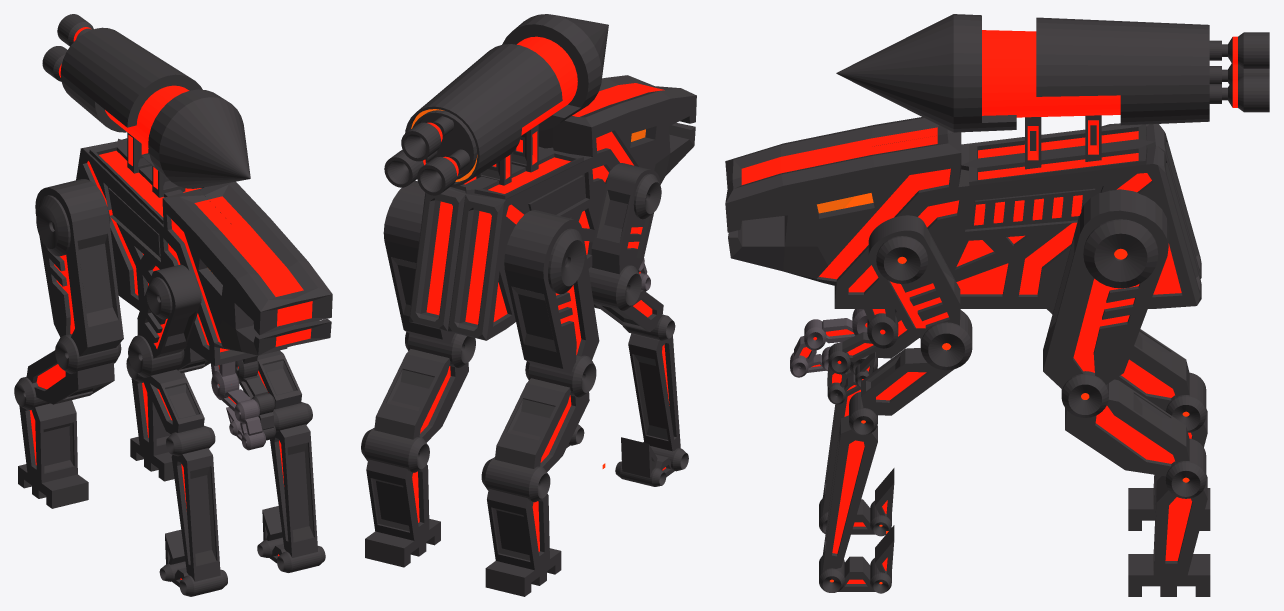
File: Mecha Join Berwarna.fbx
The picture shows the model from 3 angles, left to right: view 1: azimuth 30°, elevation 25°; view 2: azimuth 150°, elevation 25°; view 3: azimuth 270°, elevation 25°; orthographic projection. The views are drawn at different scales.
Visible parts, largest first — view 1: Cube.060, Cube.031, Cylinder.010, Cube.056, Cube.055, Cube.049, Cube.059, Cube.058, Cube.039, Cylinder.012, Cube.052, Cube.040 (+4 smaller); view 2: Cube.031, Cube.060, Cube.059, Cube.056, Cylinder.010, Cube.050, Cube.049, Cylinder.012, Cube.052, Cylinder.009, Cylinder.011, Cube.040 (+5 smaller); view 3: Cube.060, Cube.059, Cylinder.010, Cube.055, Cube.052, Cylinder.012, Cube.049, Cube.031, Cube.053, Cube.056, Cube.039, Cube.054 (+4 smaller).
Boxes of the visible parts, x1,y1,x2,y2 form: Cube.060: (76, 138, 332, 366); Cube.031: (14, 179, 123, 508); Cylinder.010: (60, 27, 250, 188); Cube.056: (128, 264, 227, 596); Cube.055: (257, 350, 325, 572); Cube.049: (99, 150, 312, 352); Cube.059: (126, 346, 210, 481); Cube.058: (210, 361, 265, 450); Cube.039: (235, 356, 275, 440); Cylinder.012: (105, 85, 189, 148); Cube.052: (87, 161, 221, 345); Cube.040: (29, 255, 74, 465); Cube.031: (481, 210, 599, 596); Cube.060: (409, 75, 696, 340); Cube.059: (361, 180, 475, 567); Cube.056: (588, 163, 688, 486); Cylinder.010: (405, 14, 608, 186); Cube.050: (426, 201, 491, 324); Cube.049: (464, 83, 664, 193); Cylinder.012: (517, 36, 577, 135); Cube.052: (493, 131, 633, 321); Cylinder.009: (417, 149, 469, 195); Cylinder.011: (401, 116, 453, 161); Cube.040: (532, 285, 581, 551); Cube.060: (725, 117, 1201, 308); Cube.059: (1043, 189, 1210, 596); Cylinder.010: (836, 14, 1209, 132); Cube.055: (819, 215, 972, 593); Cube.052: (819, 168, 1181, 294); Cylinder.012: (982, 30, 1120, 117); Cube.049: (741, 127, 1138, 184); Cube.031: (1047, 123, 1210, 530); Cube.053: (1073, 278, 1191, 560); Cube.056: (819, 309, 960, 536); Cube.039: (827, 309, 898, 404); Cube.054: (832, 281, 948, 583).
Size of the model in its own units: 596 by 1544 by 1421.
